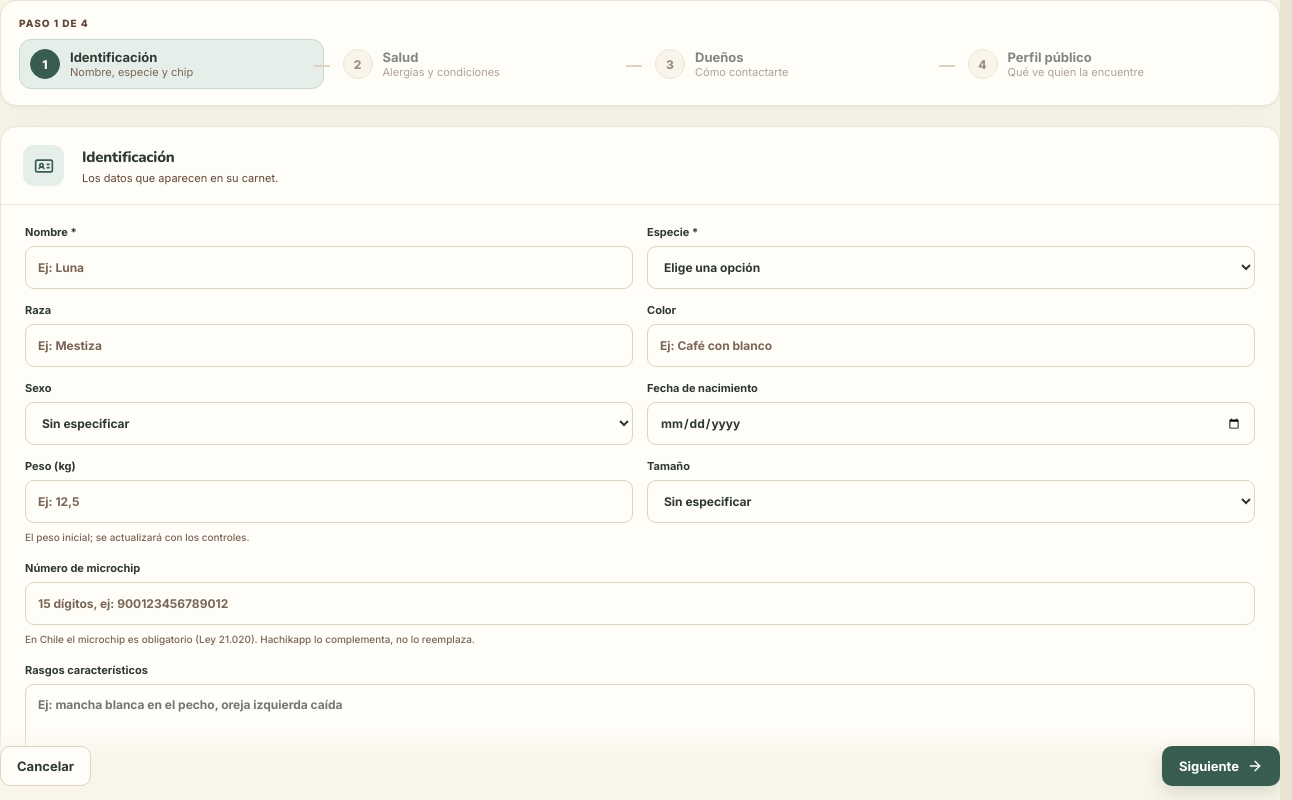
PetForm wizard › accepts only digits in the chip number
The image size is (1292, 800).
Step 1. Type "90a0 12-3" into the field labelled "Número de microchip" → x=640, y=604, box top-left (25, 582), bottom-right (1255, 625)
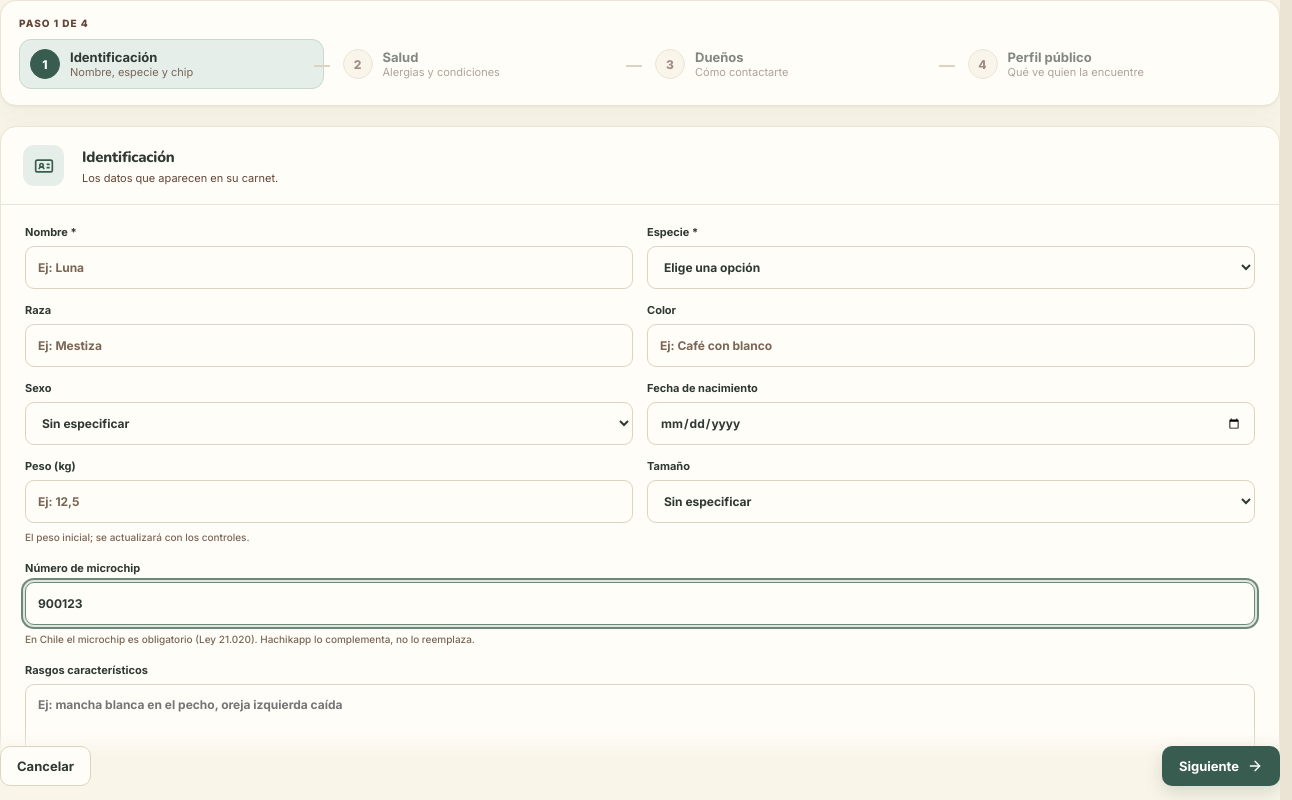
Now the field labelled "Número de microchip" holds "900123", box top-left (25, 582), bottom-right (1255, 625)
